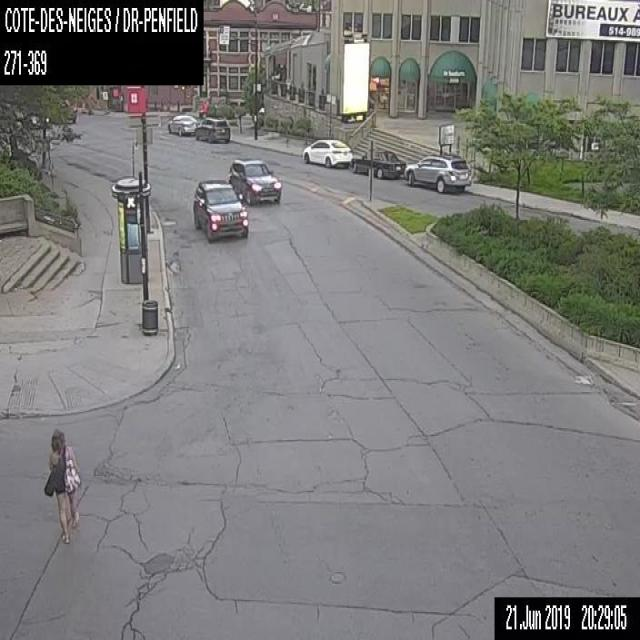pedestrian: (45, 429, 79, 543)
vehicle: (192, 178, 248, 242), (404, 152, 471, 192), (228, 157, 281, 205), (350, 146, 406, 178), (301, 136, 352, 167), (194, 116, 230, 142), (168, 113, 200, 135)
